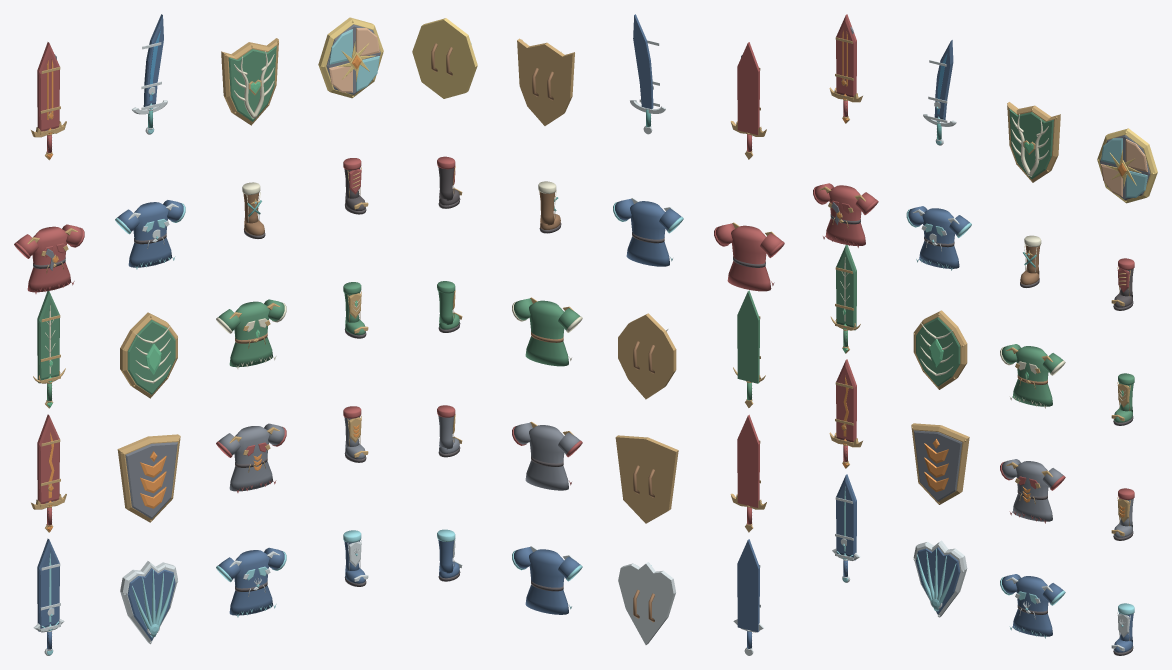
File: relics.glb
3 views of the same model, side by side, from view 1: azimuth 30°, elevation 25°; view 2: azimuth 150°, elevation 25°; view 3: azimuth 330°, elevation 25° (orthographic). The views are drawn at different scales.
Parts seen in each view (by area): view 1: Relic 13 part 0, Relic 03 part 0, Relic 02 part 0, Relic 09 part 0, Relic 17 part 0, Relic 18 part 0, Relic 10 part 0, Relic 05 part 0, Relic 14 part 0, Relic 04 part 0, Relic 08 part 2, Relic 16 part 2 (+8 smaller); view 2: Relic 13 part 0, Relic 03 part 0, Relic 02 part 0, Relic 09 part 0, Relic 17 part 0, Relic 04 part 0, Relic 14 part 0, Relic 10 part 0, Relic 05 part 0, Relic 18 part 0, Relic 08 part 2, Relic 00 part 2 (+8 smaller); view 3: Relic 13 part 0, Relic 03 part 0, Relic 02 part 0, Relic 09 part 0, Relic 17 part 0, Relic 18 part 0, Relic 10 part 0, Relic 05 part 0, Relic 14 part 0, Relic 04 part 0, Relic 08 part 2, Relic 00 part 2 (+8 smaller).
Boxes of the visible parts, box(x1,y1,x2,y2) form: Relic 13 part 0: box(117, 434, 180, 522); Relic 03 part 0: box(318, 17, 383, 98); Relic 02 part 0: box(221, 38, 278, 125); Relic 09 part 0: box(120, 312, 177, 398); Relic 17 part 0: box(120, 561, 178, 644); Relic 18 part 0: box(216, 547, 286, 617); Relic 10 part 0: box(216, 299, 286, 368); Relic 05 part 0: box(115, 200, 185, 269); Relic 14 part 0: box(216, 423, 286, 492); Relic 04 part 0: box(14, 224, 84, 293); Relic 08 part 2: box(37, 291, 60, 383); Relic 16 part 2: box(37, 538, 60, 631); Relic 13 part 0: box(615, 435, 678, 523); Relic 03 part 0: box(412, 18, 477, 98); Relic 02 part 0: box(517, 38, 574, 125); Relic 09 part 0: box(618, 313, 676, 399); Relic 17 part 0: box(618, 562, 676, 644); Relic 04 part 0: box(714, 222, 784, 291); Relic 14 part 0: box(512, 421, 582, 490); Relic 10 part 0: box(512, 297, 582, 366); Relic 05 part 0: box(613, 198, 683, 266); Relic 18 part 0: box(512, 546, 582, 614); Relic 08 part 2: box(737, 290, 760, 383); Relic 00 part 2: box(737, 42, 760, 135); Relic 13 part 0: box(911, 423, 969, 504); Relic 03 part 0: box(1097, 128, 1157, 203); Relic 02 part 0: box(1007, 102, 1060, 182); Relic 09 part 0: box(913, 310, 967, 389); Relic 17 part 0: box(913, 540, 967, 617); Relic 18 part 0: box(1000, 574, 1065, 638); Relic 10 part 0: box(1000, 344, 1065, 408); Relic 05 part 0: box(906, 206, 971, 270); Relic 14 part 0: box(1000, 459, 1065, 523); Relic 04 part 0: box(813, 183, 878, 247); Relic 08 part 2: box(835, 245, 856, 330); Relic 00 part 2: box(835, 14, 856, 100).
Bounding box in the file's own units: 146 × 237 × 11.66.
